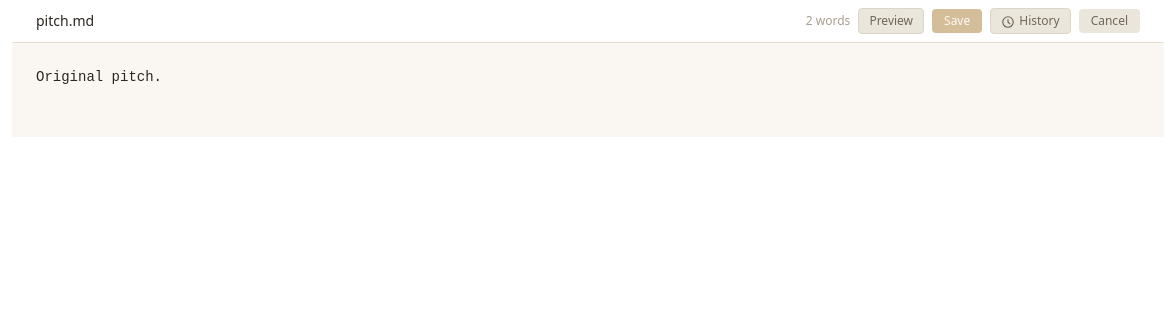
FileEditor › opens the version history panel
Click the button titled "Version history". click: (1030, 21)
box: [990,8,1071,34]
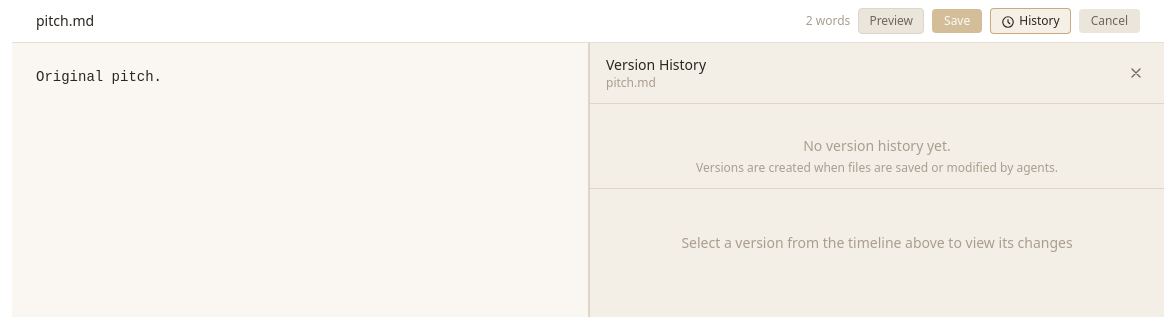
Result: the heading "Version History" is shown at [606,55,706,75]
Result: the text "No version history yet." is shown at [803,136,951,156]
